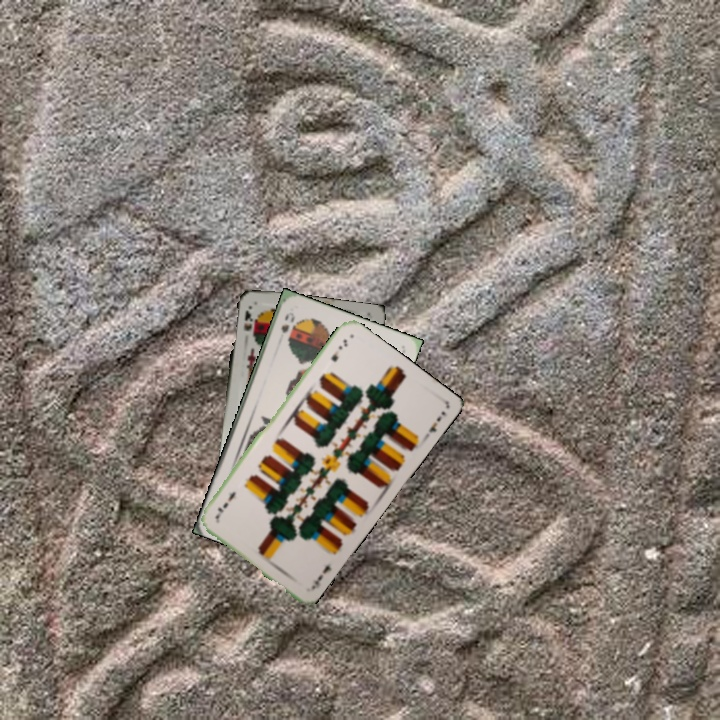E7: (307, 560, 335, 592), (327, 335, 350, 364)
SK: (240, 306, 258, 339)
SO: (277, 308, 298, 335)
